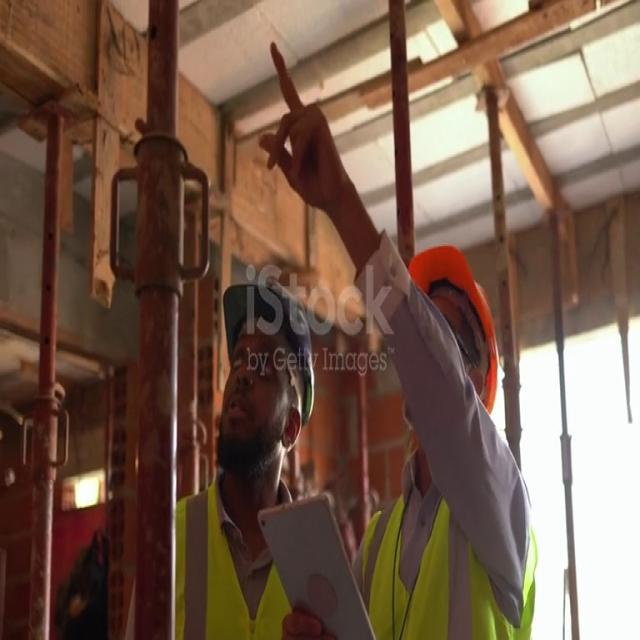capacete: (207, 264, 322, 430), (406, 234, 504, 422)
